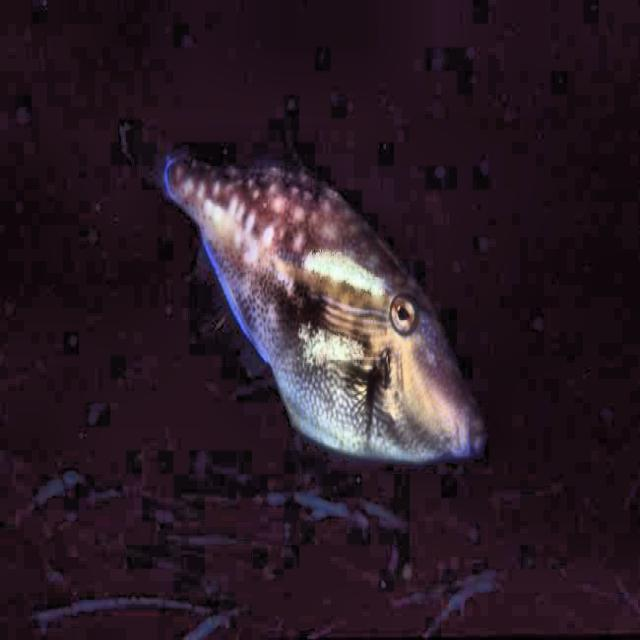fish: (119, 119, 489, 466)
